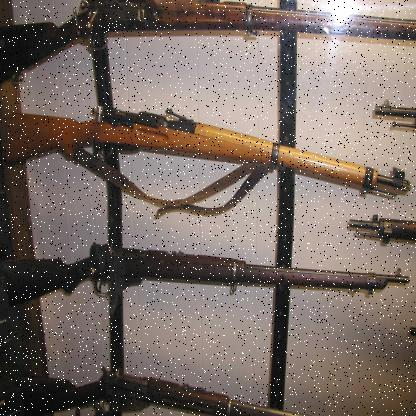rifle: (4, 92, 408, 227), (3, 0, 415, 88), (0, 249, 415, 303), (0, 381, 334, 415)
